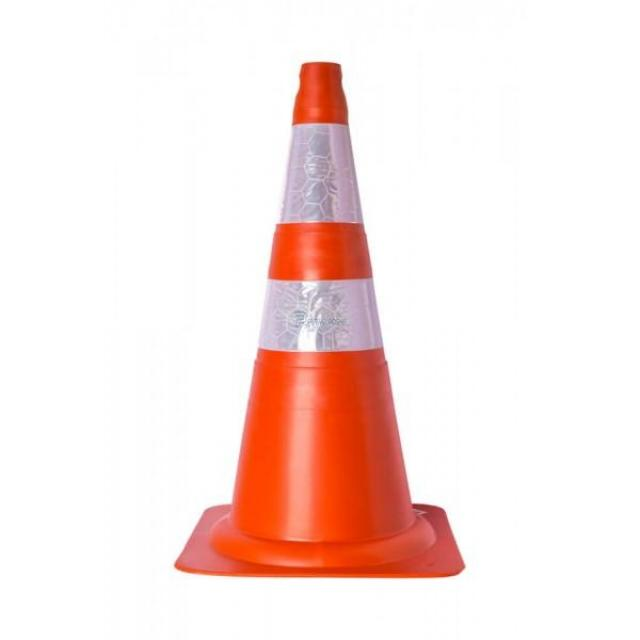cone: (218, 56, 441, 561)
